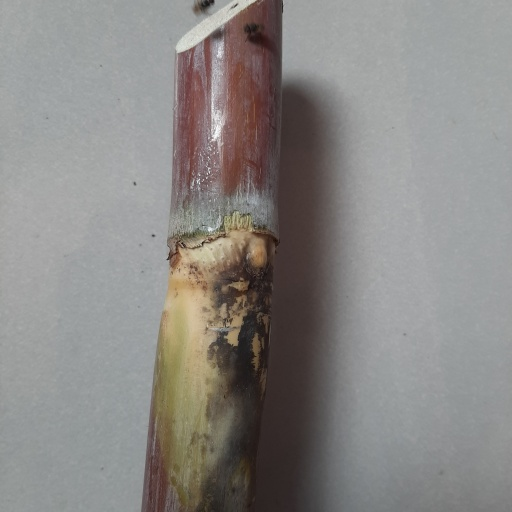Bud: (243, 235, 270, 274)
